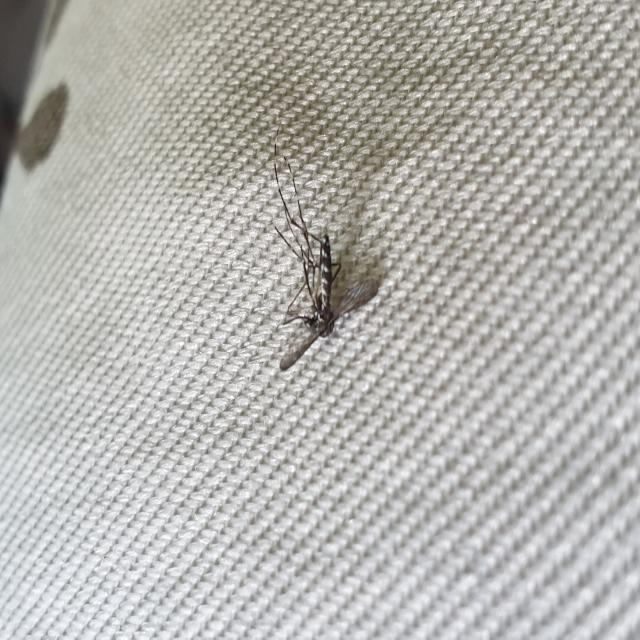albopictus: (265, 134, 347, 374)
